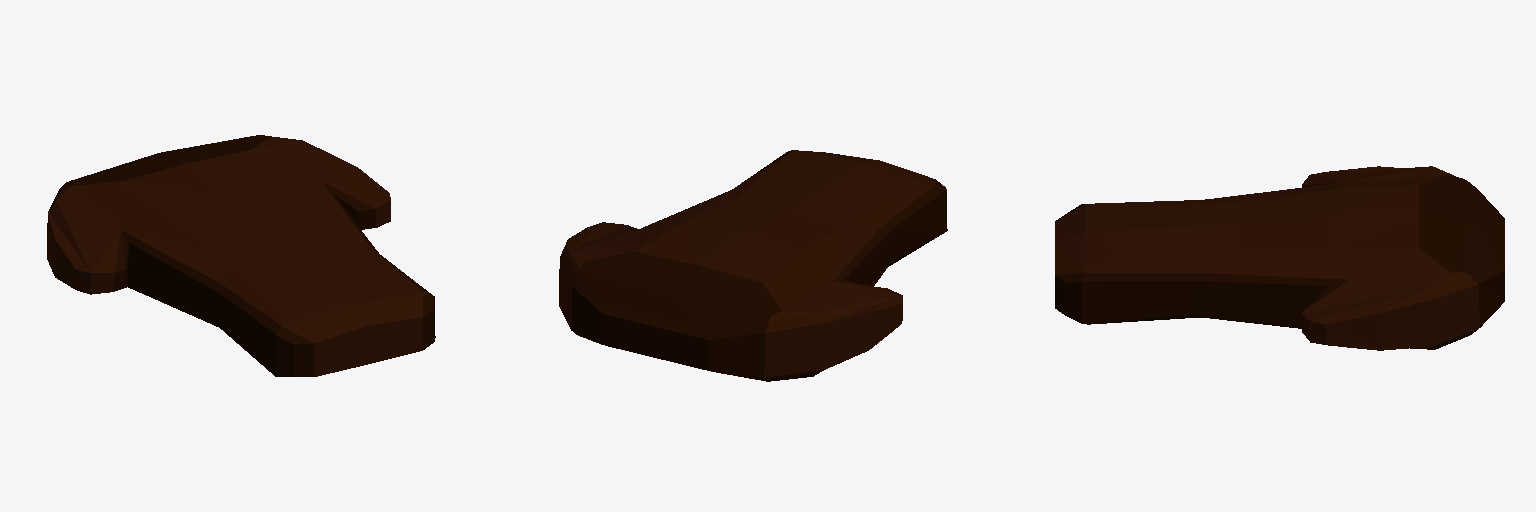
File: RoughTunic.obj
3 renders of one model, left to right at view 1: azimuth 30°, elevation 25°; view 2: azimuth 150°, elevation 25°; view 3: azimuth 270°, elevation 25°, orthographic.
Visible parts, largest first — view 1: RoughTunic; view 2: RoughTunic; view 3: RoughTunic.
Boxes of the visible parts, box(x1,y1,x2,y2) form: RoughTunic: box(47, 135, 435, 376); RoughTunic: box(559, 150, 947, 381); RoughTunic: box(1055, 166, 1504, 350).
Size of the model in its own units: 0.7995 by 0.2011 by 0.9913.